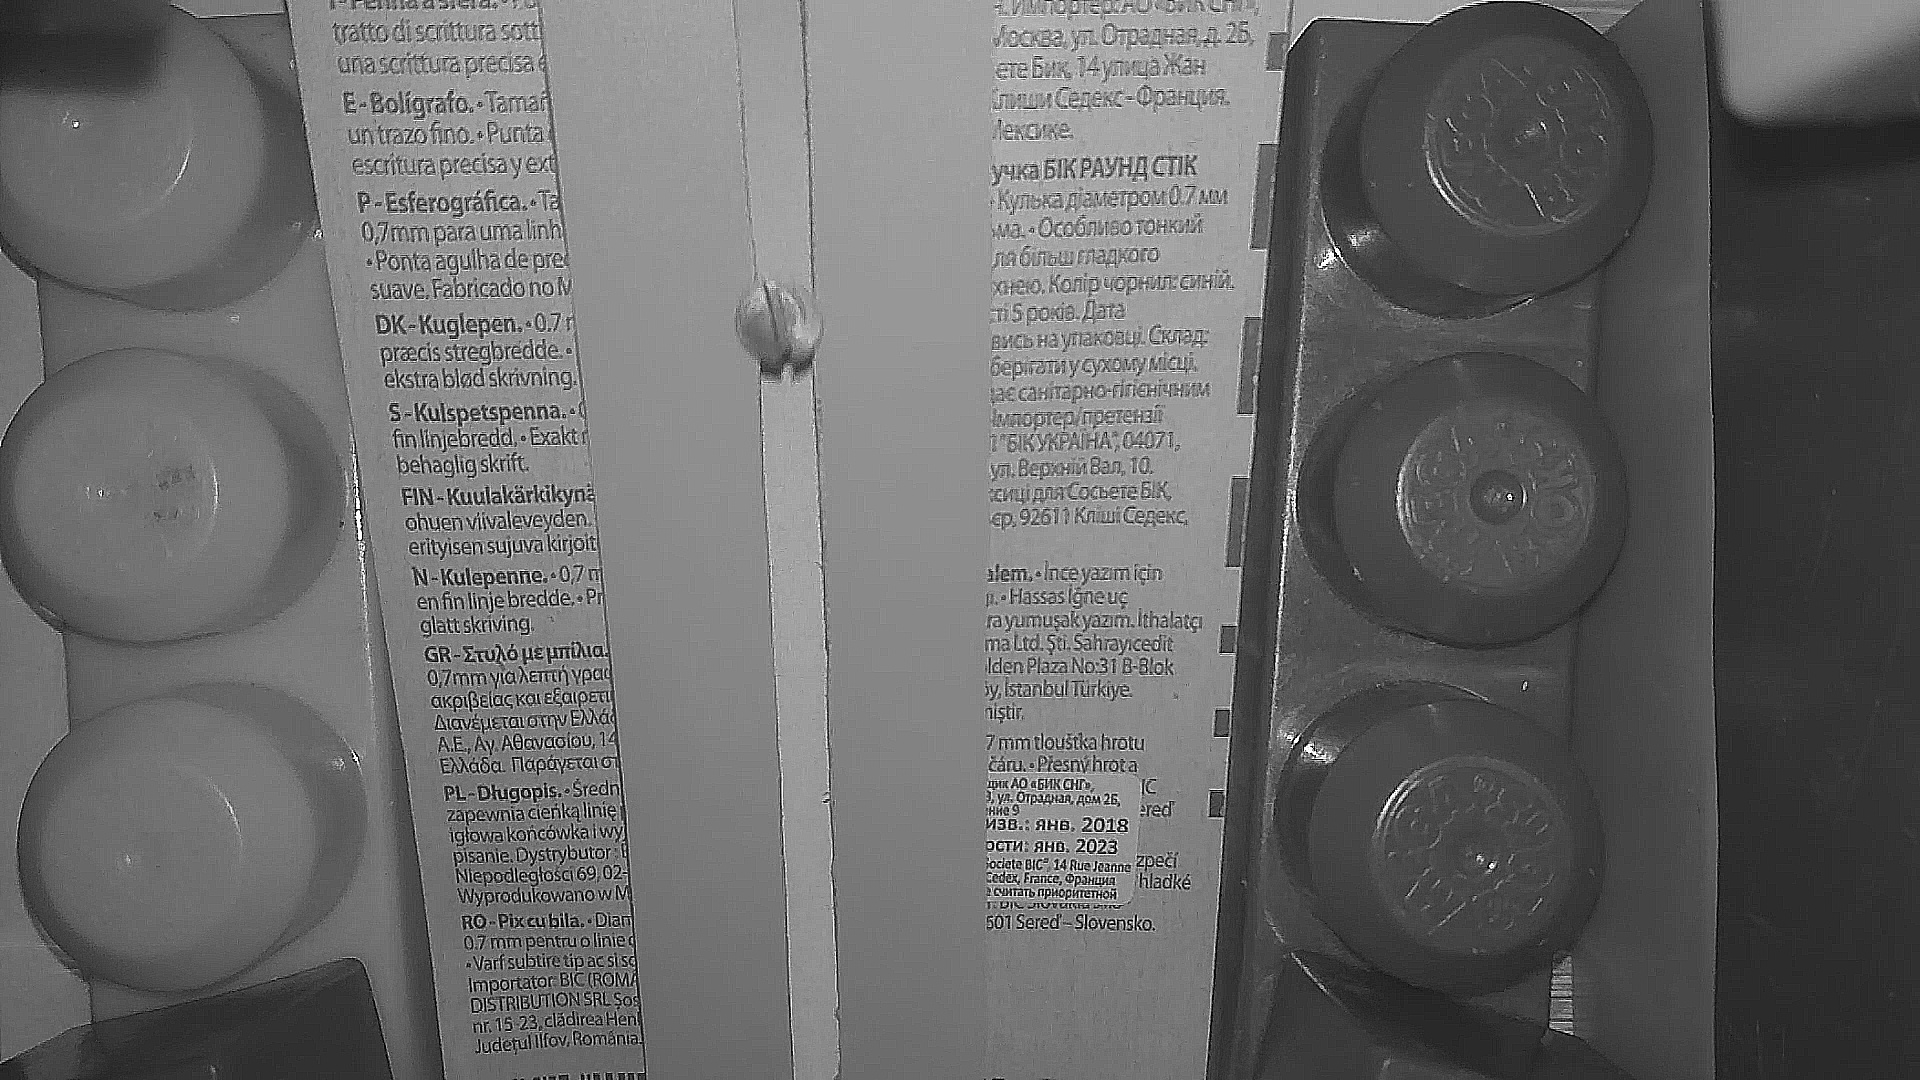i: (737, 281, 823, 365)
